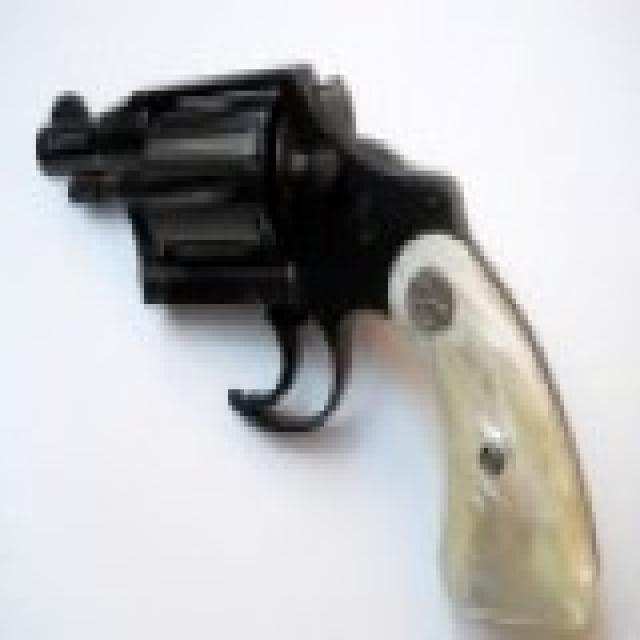Gun: (27, 53, 622, 631)
